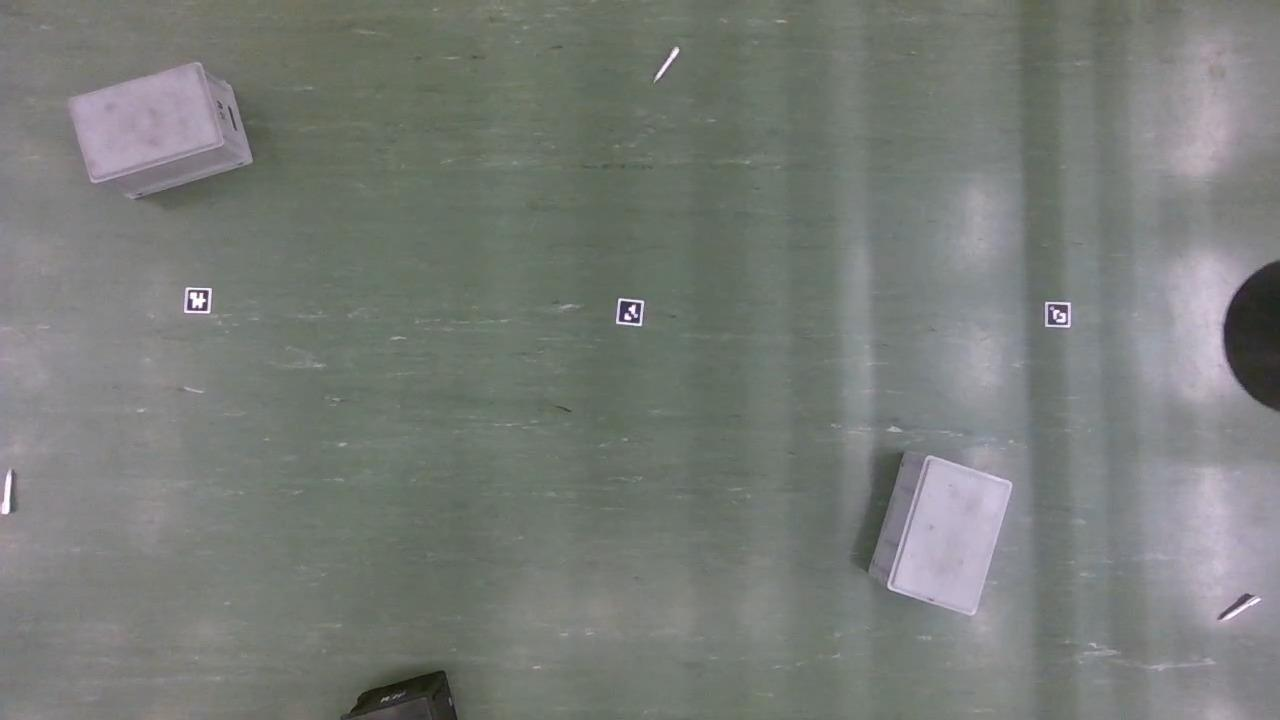probes: (1219, 594, 1258, 623), (654, 48, 679, 83), (1, 471, 15, 516)
rako: (68, 63, 253, 203), (866, 456, 1013, 620)
